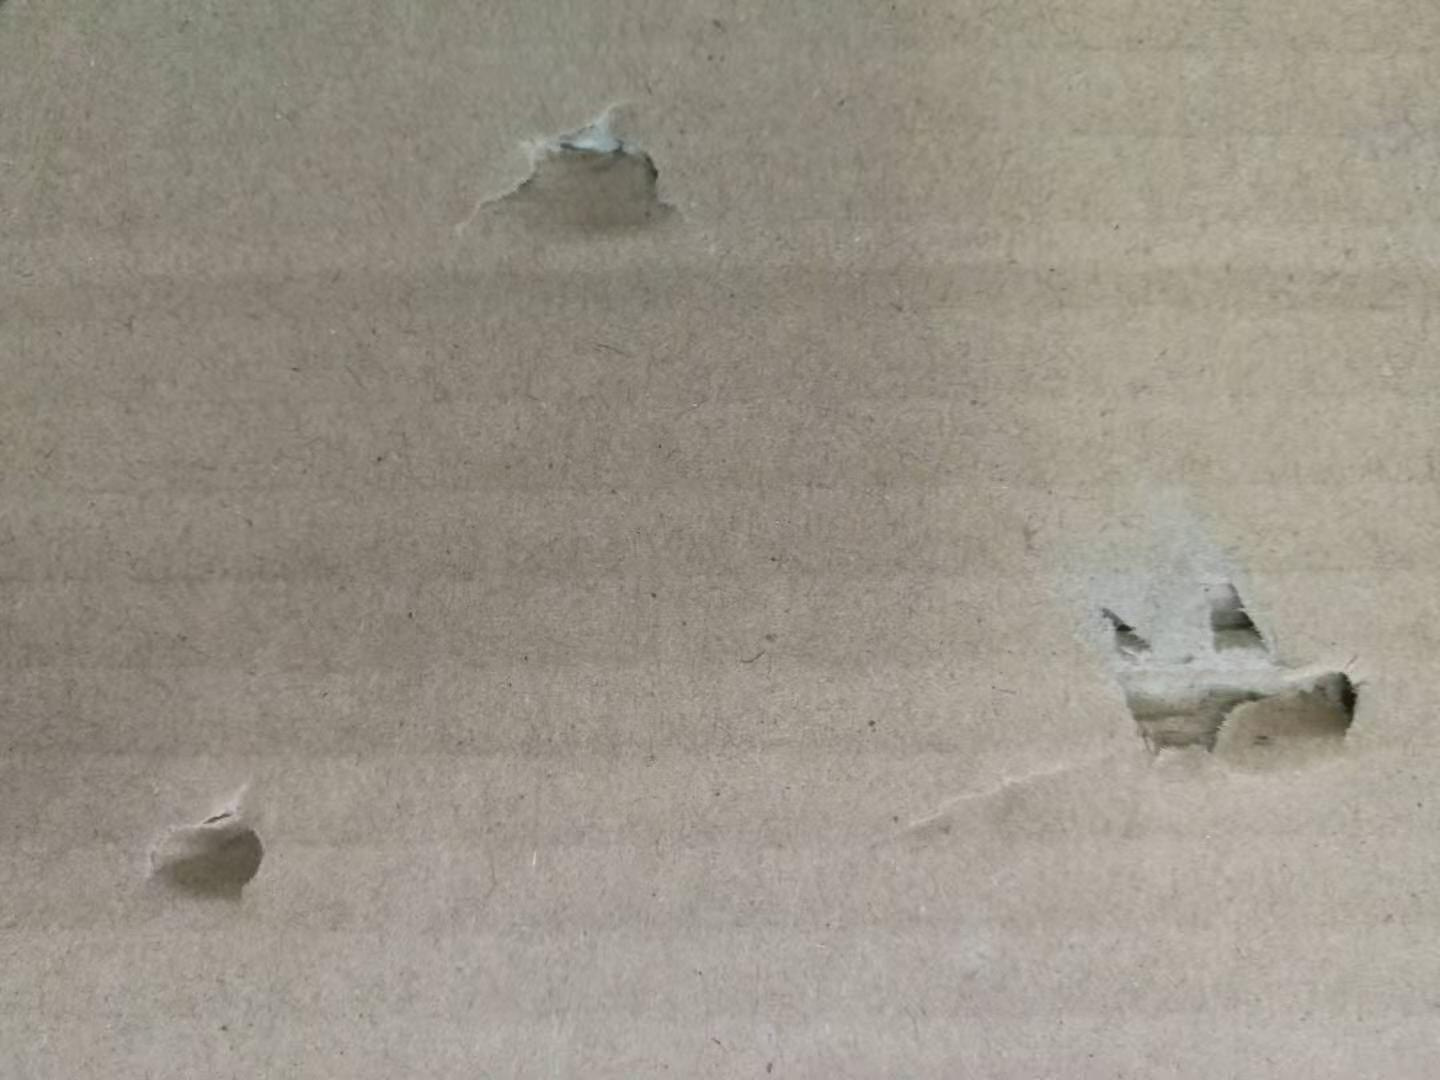defect: (893, 454, 1400, 847), (427, 77, 729, 267), (119, 751, 311, 929)
